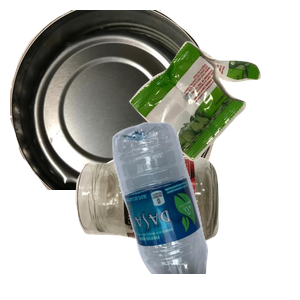glass: (73, 153, 284, 300)
metal: (10, 10, 221, 190)
plastic: (110, 120, 300, 300)
trash: (127, 39, 300, 193)
